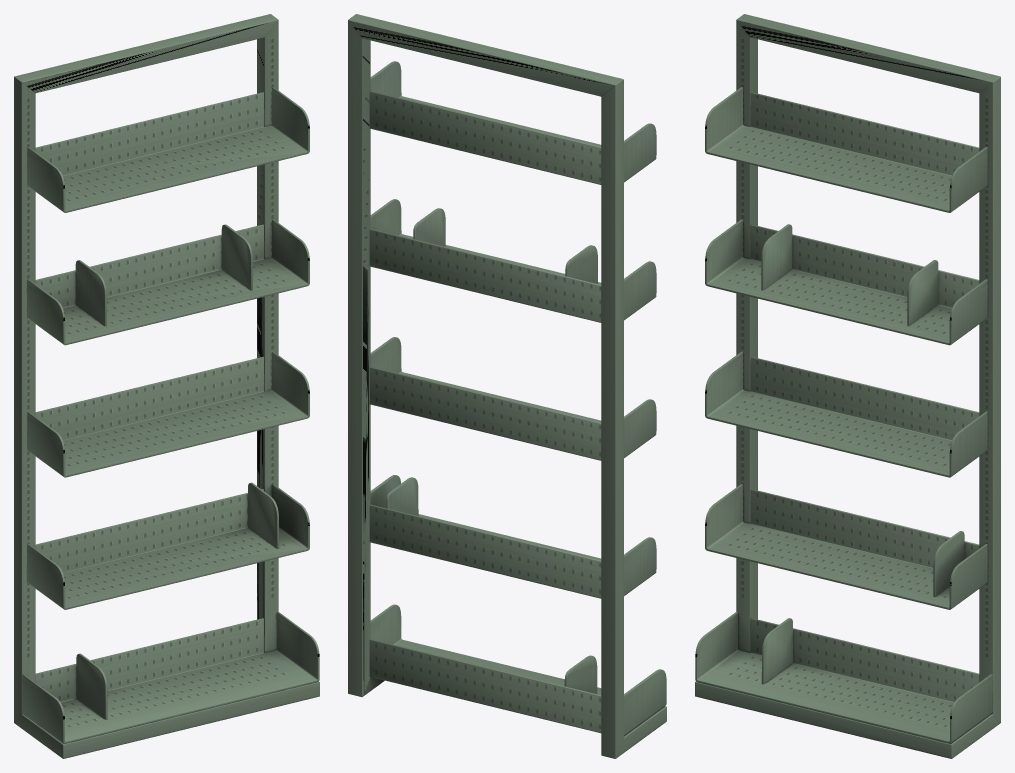
File: 10230_Garage_Shelves_Metal_v2_Iterations-2.obj
The picture shows the model from 3 angles, left to right: view 1: azimuth 30°, elevation 25°; view 2: azimuth 150°, elevation 25°; view 3: azimuth 330°, elevation 25°; orthographic projection. The views are drawn at different scales.
Visible parts, largest first — view 1: 10230_Garage_Shelves_Metal_v1; view 2: 10230_Garage_Shelves_Metal_v1; view 3: 10230_Garage_Shelves_Metal_v1.
Part boxes in pixels (x1,y1,x2,y2): 10230_Garage_Shelves_Metal_v1: [14, 14, 319, 758]; 10230_Garage_Shelves_Metal_v1: [348, 14, 666, 758]; 10230_Garage_Shelves_Metal_v1: [695, 14, 1000, 758].
Size of the model in its own units: 0.9149 by 2.2 by 0.3049.
Materials: 1 (1 with a texture image).
